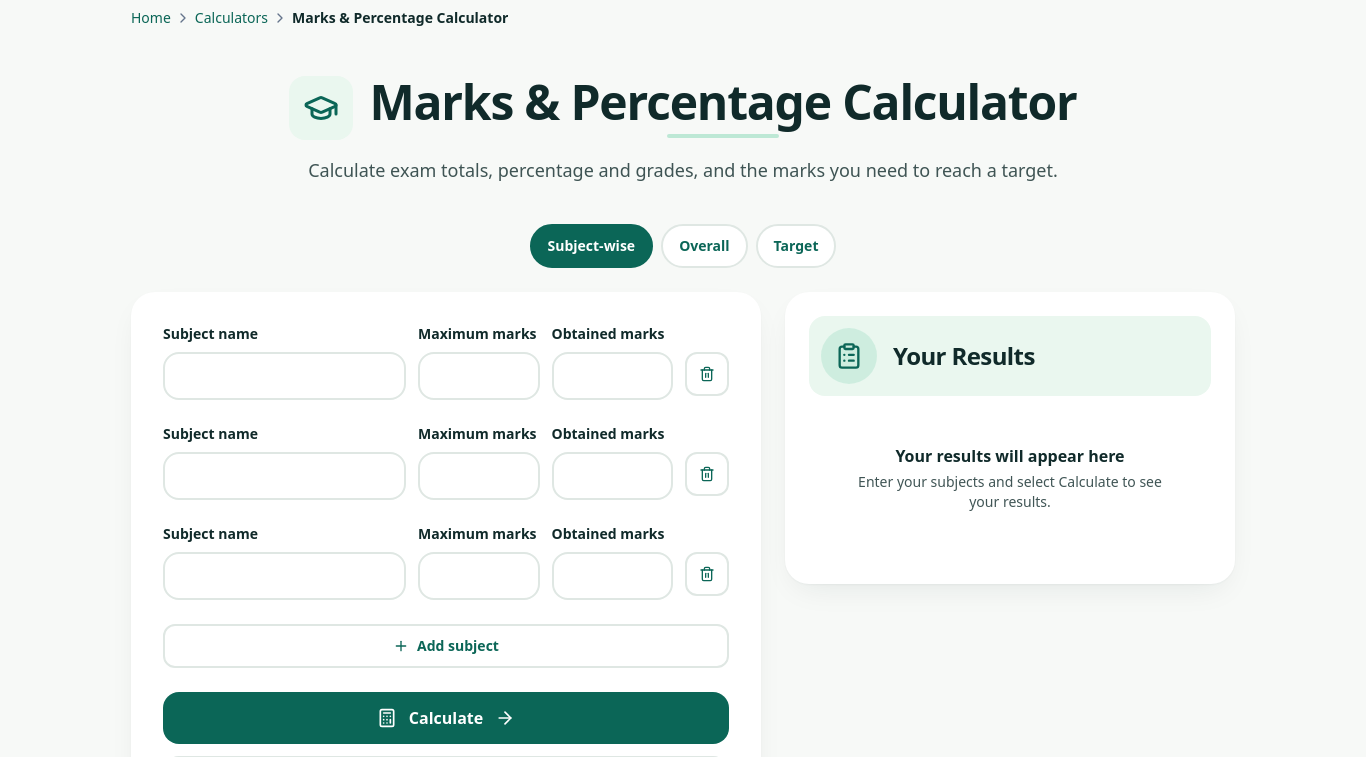
subject-wise mode › resets subjects, results and errors
The width and height of the screenshot is (1366, 757).
Type "Maths" into the field named "Subject 1 Subject name" at (284, 376), box [163,352,406,400]
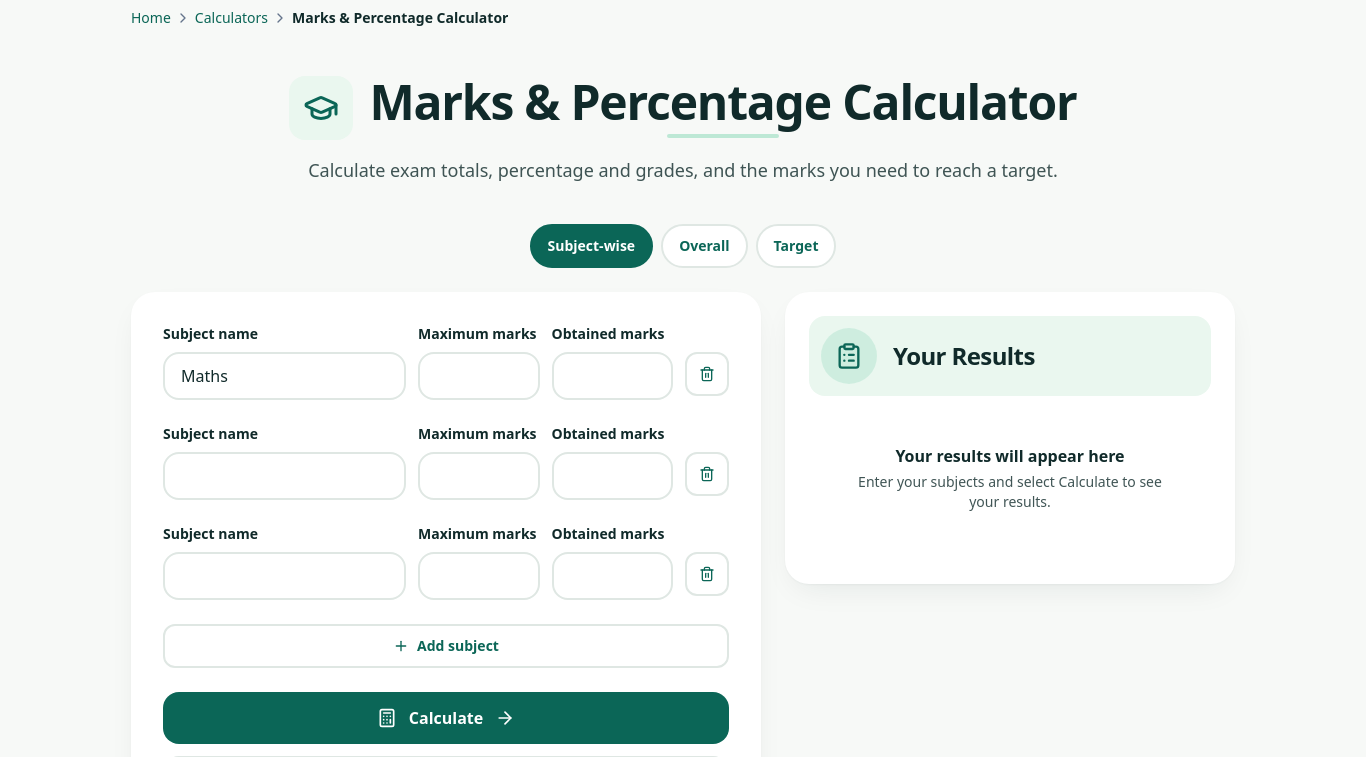
Type "100" into the field named "Subject 1 Maximum marks" at (479, 376), box [418,352,540,400]
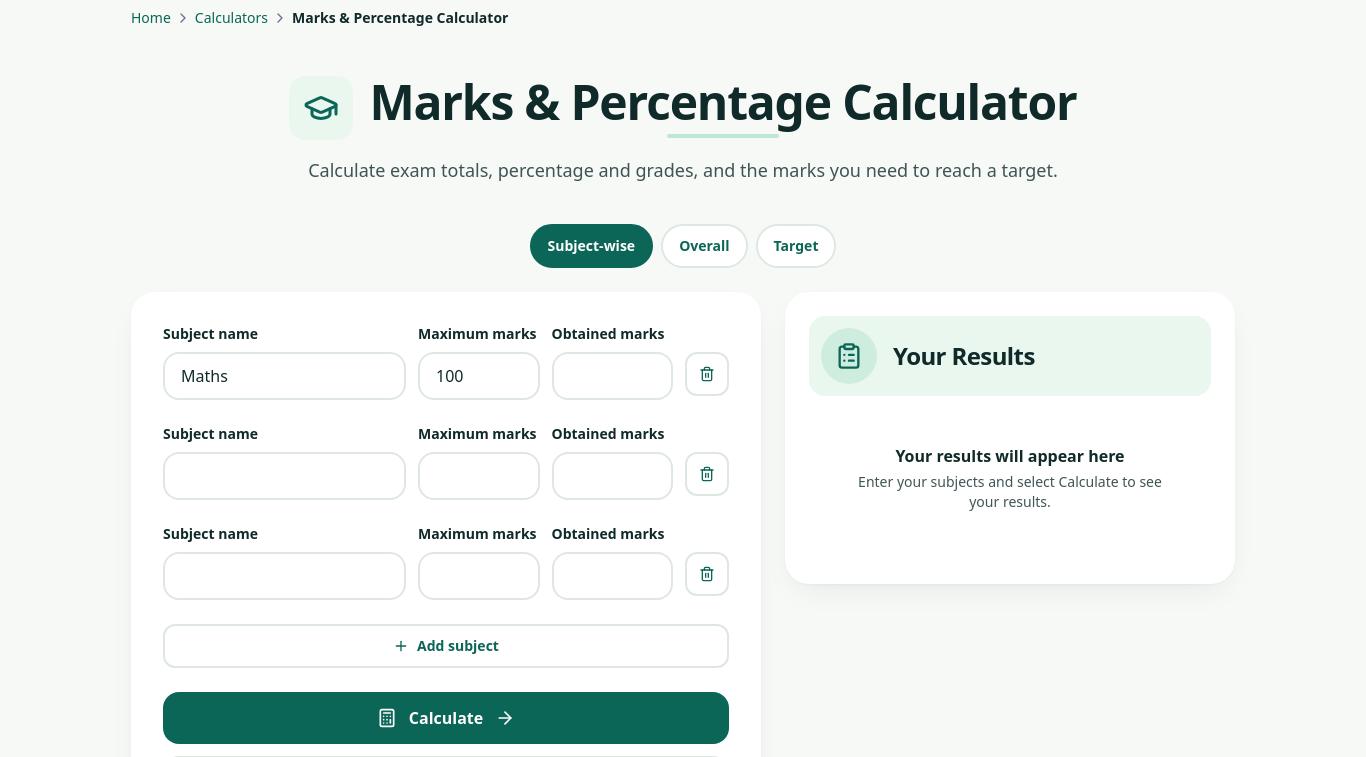
Type "90" into the field named "Subject 1 Obtained marks" at (612, 376), box [552,352,673,400]
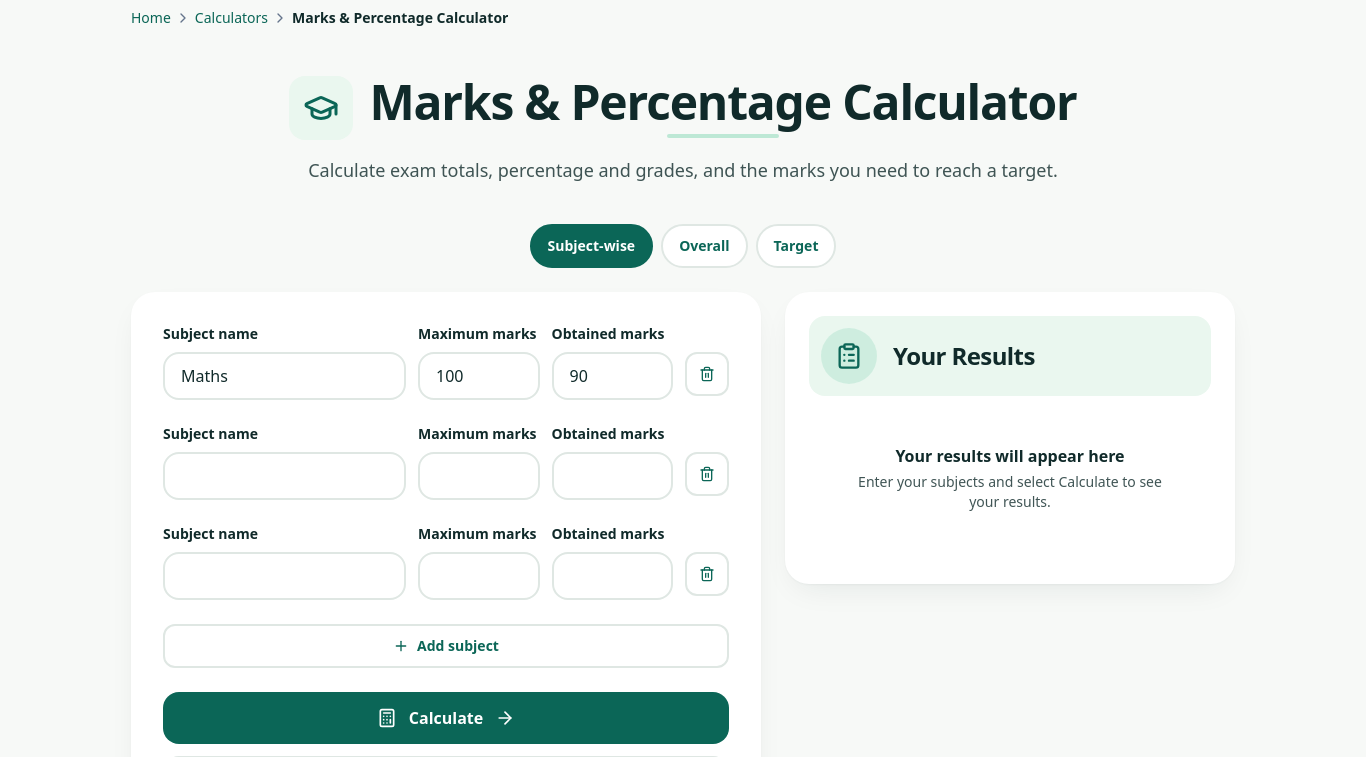
Click the button "Add subject" at (446, 646), box [163,624,729,668]
(page scrolled)
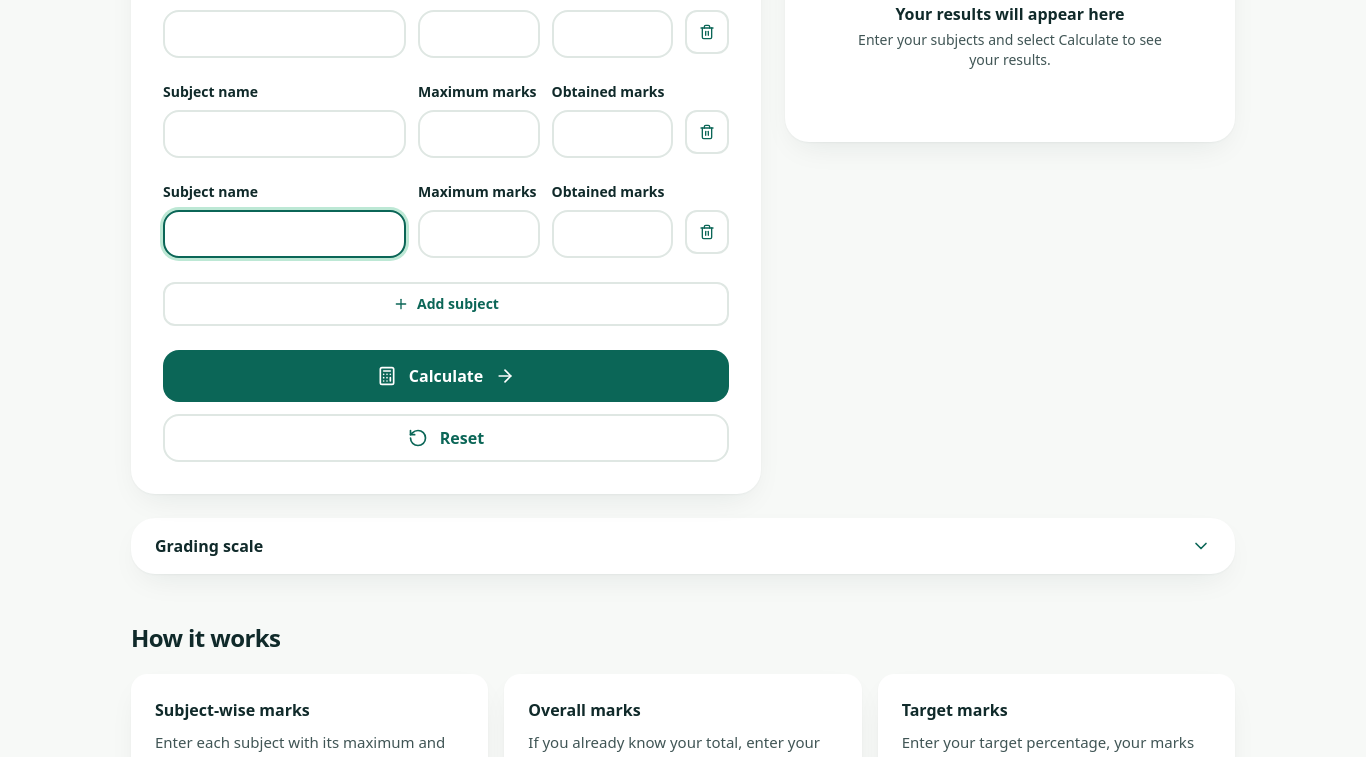
Click the button "Calculate" at (446, 376), box [163,350,729,402]
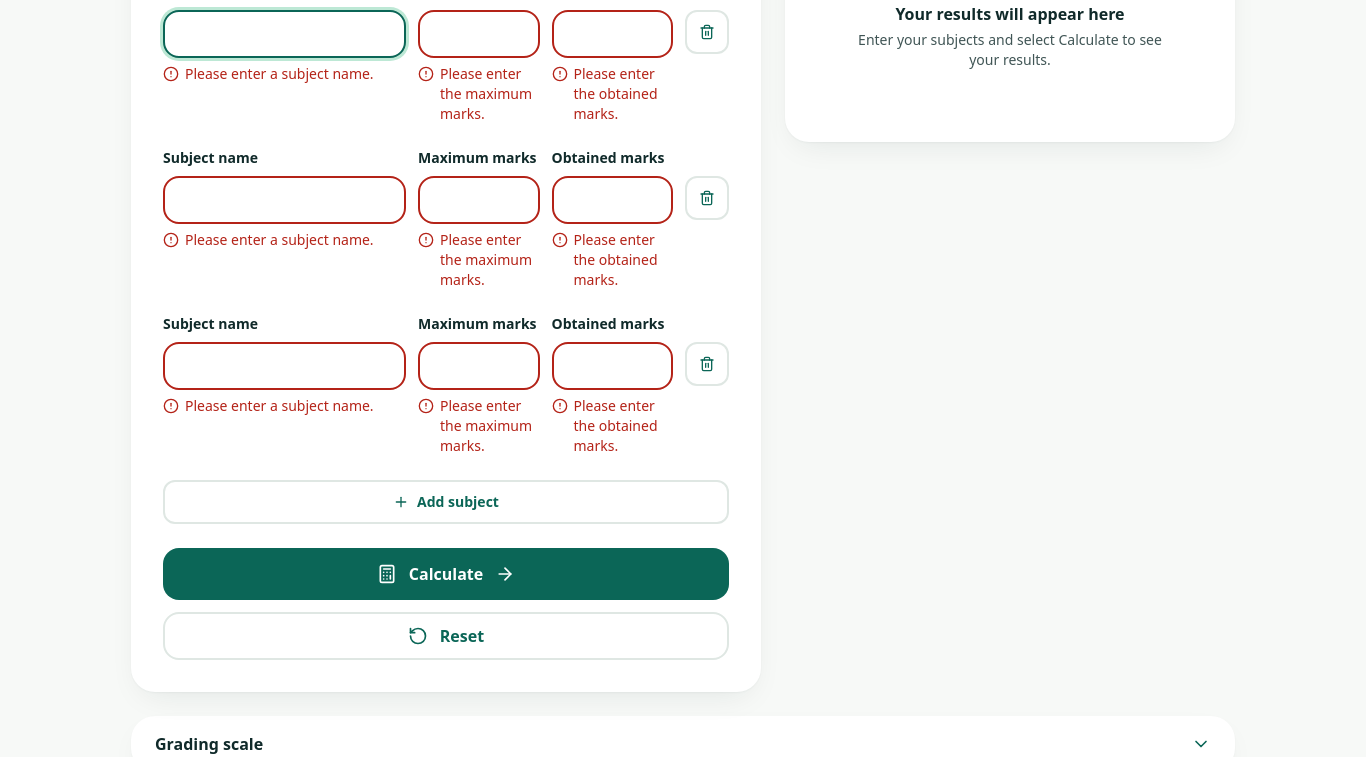
Click the button "Reset" at (446, 636), box [163,612,729,660]
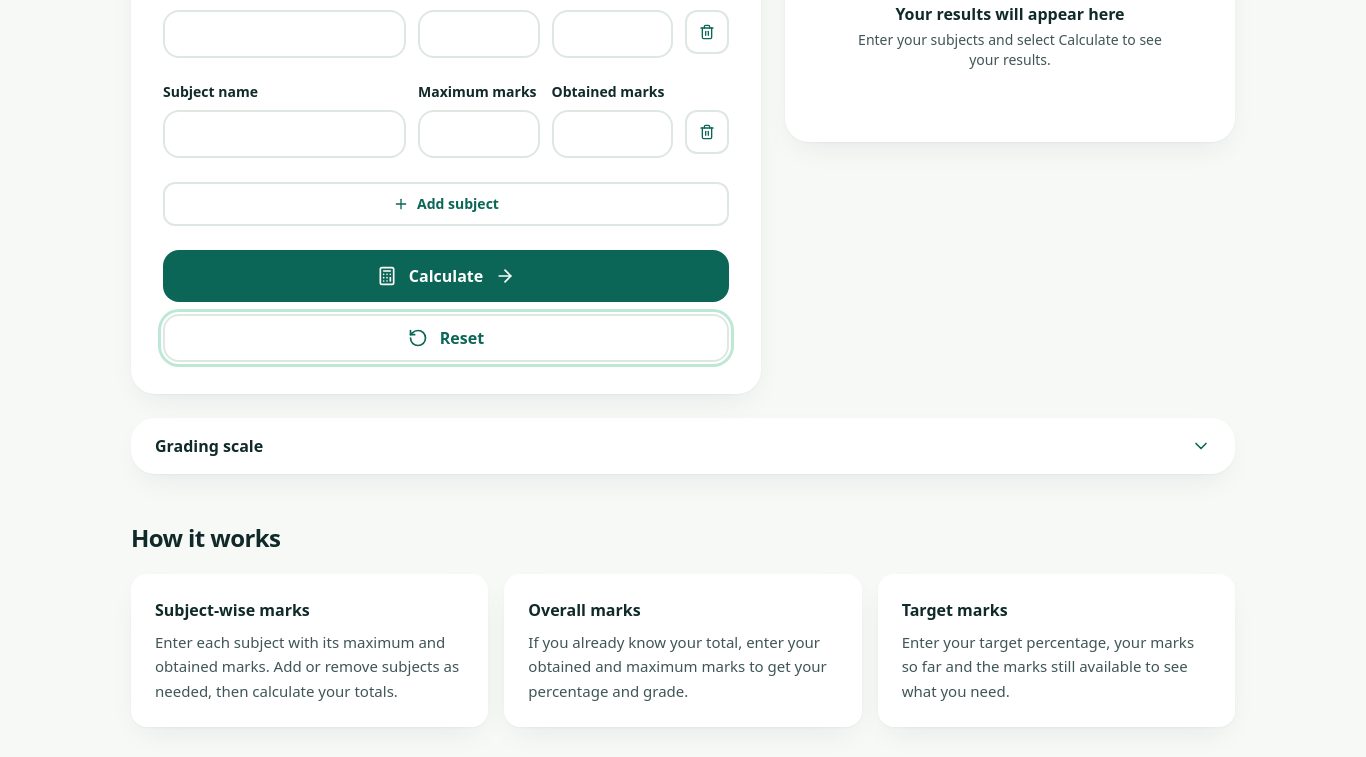
Check: the field labelled "Subject 4 Subject name" is not shown
Check: the text "Please enter a subject name." is gone
